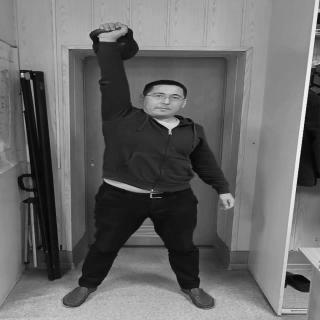kettlebell: (90, 25, 141, 60)
